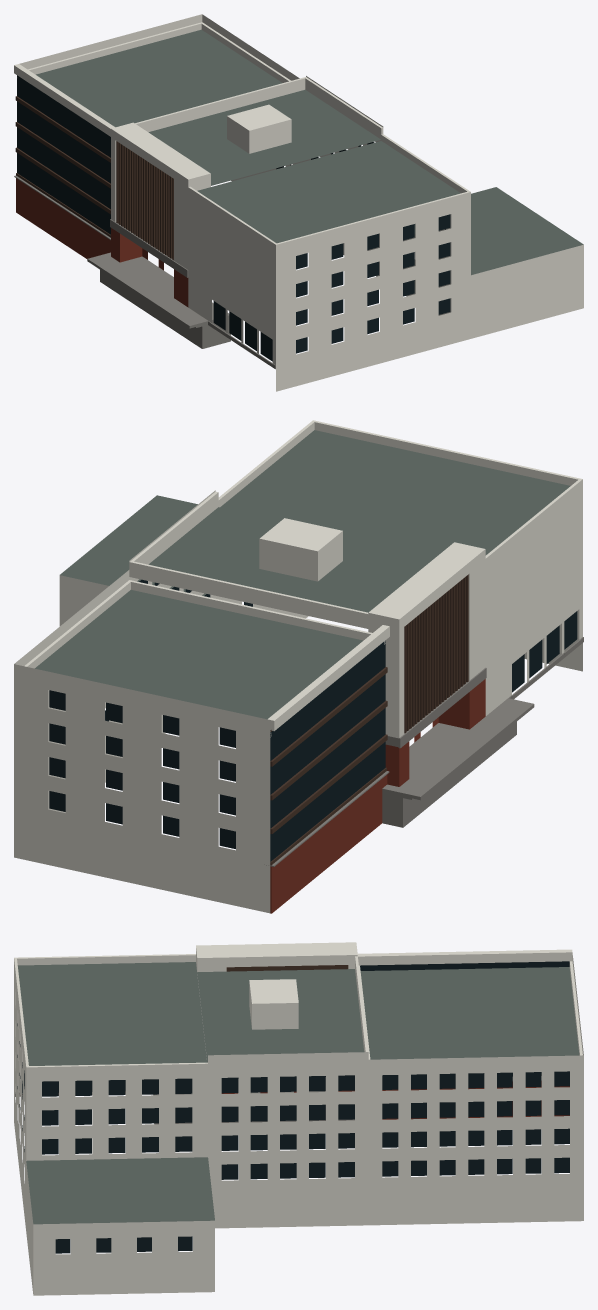
Rendered from dom_oficerov.lod.glb.
3 renders of one model, top to bottom at view 1: azimuth 30°, elevation 25°; view 2: azimuth 150°, elevation 25°; view 3: azimuth 270°, elevation 25°, orthographic. The views are drawn at different scales.
Parts seen in each view (by area): view 1: dom_oficerov_wall, dom_oficerov_roof, dom_oficerov_glass, dom_oficerov_wall2, dom_oficerov_stone, dom_oficerov_wall3; view 2: dom_oficerov_wall, dom_oficerov_roof, dom_oficerov_glass, dom_oficerov_wall2, dom_oficerov_stone, dom_oficerov_wall3; view 3: dom_oficerov_wall, dom_oficerov_roof, dom_oficerov_glass, dom_oficerov_wall2, dom_oficerov_wall3.
Part boxes in pixels (x1,y1,x2,y2): dom_oficerov_wall: [14, 14, 583, 391]; dom_oficerov_roof: [36, 29, 583, 275]; dom_oficerov_glass: [17, 75, 450, 361]; dom_oficerov_wall2: [15, 96, 173, 260]; dom_oficerov_stone: [14, 175, 275, 369]; dom_oficerov_wall3: [16, 178, 188, 307]; dom_oficerov_wall: [14, 420, 582, 913]; dom_oficerov_roof: [35, 430, 570, 719]; dom_oficerov_glass: [49, 579, 577, 861]; dom_oficerov_wall2: [270, 574, 468, 865]; dom_oficerov_stone: [264, 637, 583, 866]; dom_oficerov_wall3: [270, 679, 485, 913]; dom_oficerov_wall: [14, 942, 583, 1295]; dom_oficerov_roof: [17, 962, 579, 1224]; dom_oficerov_glass: [17, 961, 569, 1253]; dom_oficerov_wall2: [226, 965, 541, 1075]; dom_oficerov_wall3: [221, 1081, 569, 1119].
Size of the model in its own units: 48.21 by 21.8 by 60.81.
